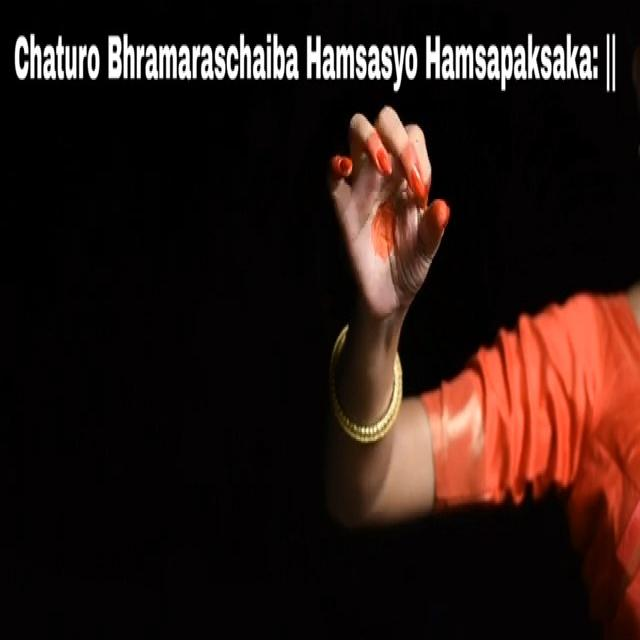bangle: (322, 321, 412, 468)
hand: (306, 105, 640, 636)
text: (12, 24, 622, 100)
